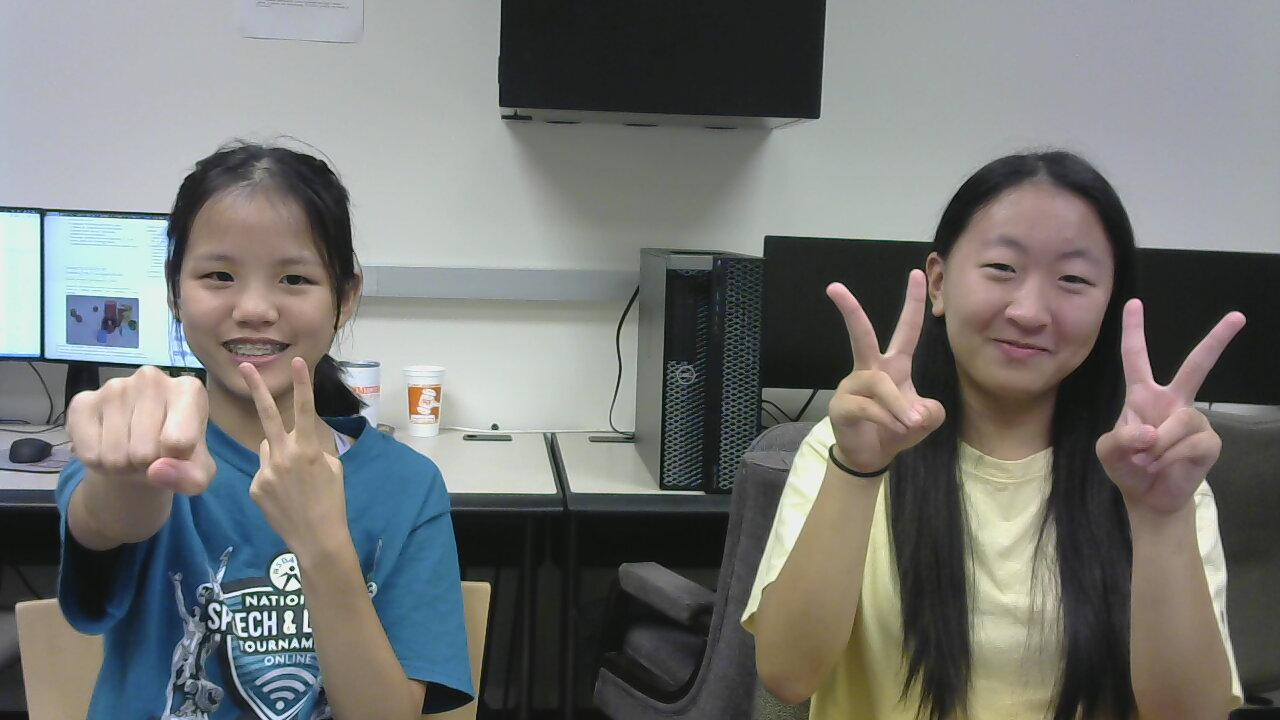fist: (66, 364, 232, 514)
peace: (1108, 292, 1255, 511), (816, 262, 952, 475), (231, 354, 364, 538)
